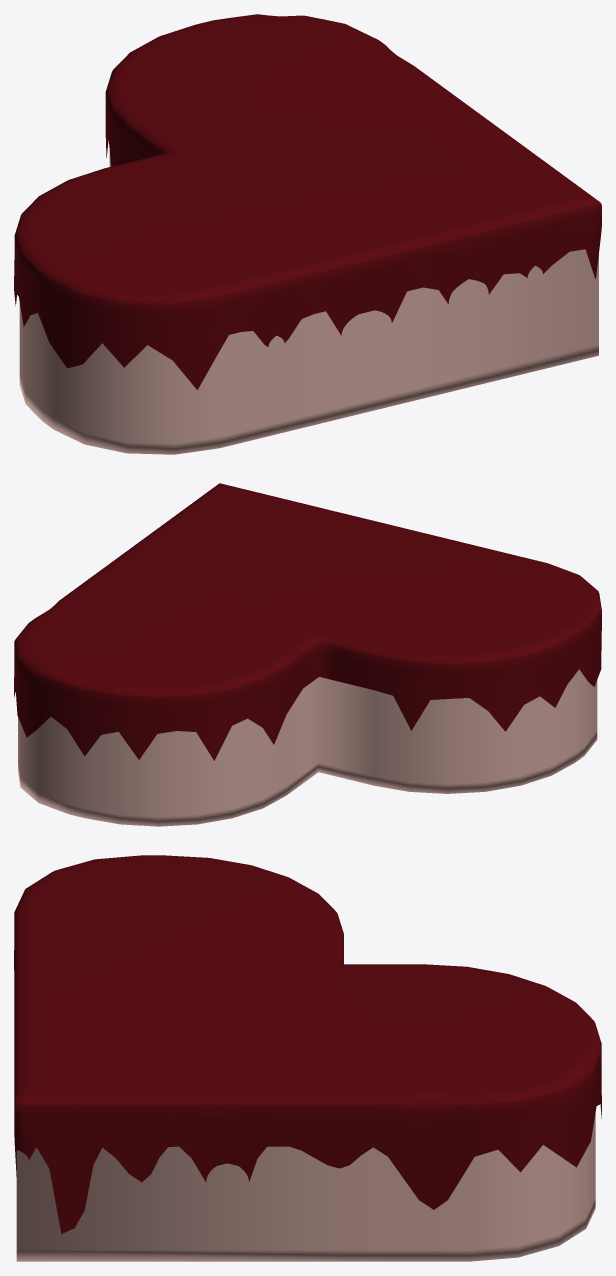
Rendered from cake1-nsvjp1IU.glb.
The picture shows the model from 3 angles, top to bottom: view 1: azimuth 30°, elevation 25°; view 2: azimuth 150°, elevation 25°; view 3: azimuth 270°, elevation 25°; orthographic projection. The views are drawn at different scales.
Visible parts, largest first — view 1: Cube.001, Cube; view 2: Cube.001, Cube; view 3: Cube.001, Cube.
Part boxes in pixels (x1,y1,x2,y2): Cube.001: (14,14,601,389); Cube: (19,152,598,454); Cube.001: (14,483,601,760); Cube: (18,669,597,826); Cube.001: (14,855,601,1233); Cube: (16,1113,595,1261).
Bounding box in the file's own units: 4.63 × 1.43 × 4.63.
